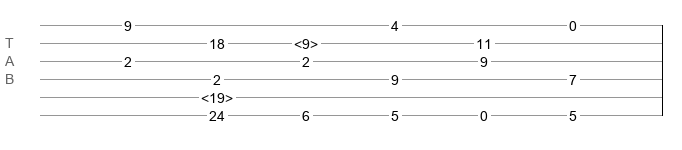0: (480, 108, 488, 118), (569, 18, 577, 28)
11: (476, 36, 492, 46)
18: (209, 36, 225, 46)
2: (124, 54, 132, 64), (213, 72, 221, 82), (302, 54, 310, 64)
24: (209, 108, 225, 118)
4: (391, 18, 399, 28)
5: (391, 108, 399, 118), (569, 108, 577, 118)
6: (302, 108, 310, 118)
7: (569, 72, 577, 82)
9: (124, 18, 132, 28), (391, 72, 399, 82), (480, 54, 488, 64)
harmonic: (201, 90, 233, 100), (294, 36, 318, 46)
